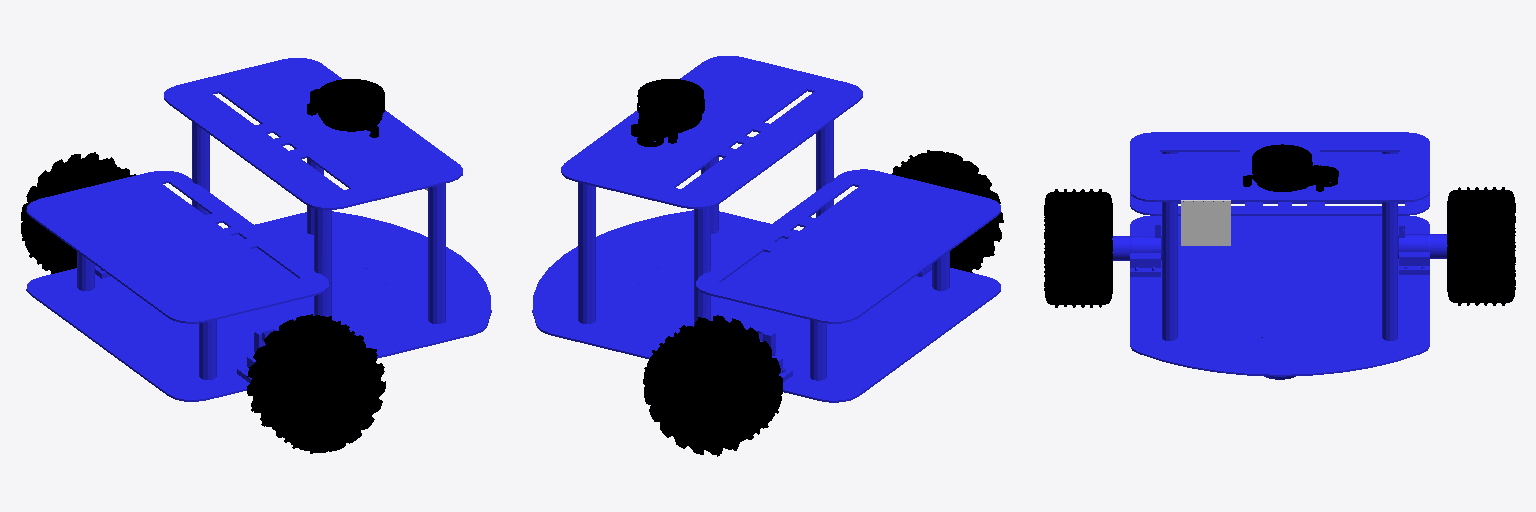
URDF robot description (project_pkg):
<?xml version="1.0" encoding="utf-8"?>
<!-- This URDF was automatically created by SolidWorks to URDF Exporter! Originally created by [author] ([email redacted]) 
     Commit Version: 1.6.0-4-g7f85cfe  Build Version: 1.6.7995.38578
     For more information, please see http://wiki.ros.org/sw_urdf_exporter -->

<robot
  name="project_pkg">



  <link
    name="base_link">
    <visual>
      <origin
        xyz="0 0 0"
        rpy="0 0 0" />
      <geometry>
        <mesh
          filename="package://project_pkg/meshes/base_link.STL" />
      </geometry>
      <material
        name="blue">
        <color
          rgba="0.2 0.2 1 1" />
      </material>
    </visual>
    <collision>
      <origin
        xyz="0 0 0"
        rpy="0 0 0" />
      <geometry>
        <mesh
          filename="package://project_pkg/meshes/base_link.STL" />
      </geometry>
    </collision>
  </link>





  <link
    name="left_wheel">

    <visual>
      <origin
        xyz="0 0 0"
        rpy="0 0 0" />
      <geometry>
        <mesh
          filename="package://project_pkg/meshes/left_wheel.STL" />
      </geometry>
      <material
        name="black">
        <color
          rgba="0 0 0 1" />
      </material>
    </visual>
    <collision>
      <origin
        xyz="0 0 0"
        rpy="0 0 0" />
      <geometry>
        <mesh
          filename="package://project_pkg/meshes/left_wheel.STL" />
      </geometry>
    </collision>
  </link>


  <joint
    name="left_joint"
    type="continuous">
    <origin
      xyz="-0.073323 0.181 0.016931"
      rpy="-1.5708 0 0" />
    <parent
      link="base_link" />
    <child
      link="left_wheel" />
    <axis
      xyz="0 0 1" />
  </joint>





  <link
    name="right_wheel">
    <visual>
      <origin
        xyz="0 0 0"
        rpy="0 0 0" />
      <geometry>
        <mesh
          filename="package://project_pkg/meshes/right_wheel.STL" />
      </geometry>
      <material
        name="black">
        <color
          rgba="0 0 0 1" />
      </material>
    </visual>
    <collision>
      <origin
        xyz="0 0 0"
        rpy="0 0 0" />
      <geometry>
        <mesh
          filename="package://project_pkg/meshes/right_wheel.STL" />
      </geometry>
    </collision>
  </link>


  <joint
    name="right_joint"
    type="continuous">
    <origin
      xyz="-0.069199 -0.181 0.016931"
      rpy="1.5708 0 0" />
    <parent
      link="base_link" />
    <child
      link="right_wheel" />
    <axis
      xyz="0 0 -1" />
  </joint>






  <link
    name="caster_link">
    <visual>
      <origin
        xyz="0 0 0"
        rpy="0 0 0" />
      <geometry>
        <mesh
          filename="package://project_pkg/meshes/caster_link.STL" />
      </geometry>
      <material
        name="black">
        <color
          rgba="0 0 0 1" />
      </material>
    </visual>
    <collision>
      <origin
        xyz="0 0 0"
        rpy="0 0 0" />
      <geometry>
        <mesh
          filename="package://project_pkg/meshes/caster_link.STL" />
      </geometry>
    </collision>
  </link>


  <joint
    name="caster_joint"
    type="continuous">
    <origin
      xyz="0.10968 0 -0.021174"
      rpy="0 0 0" />
    <parent
      link="base_link" />
    <child
      link="caster_link" />
    <axis
      xyz="1 0 0" />
  </joint>



  <link
    name="laser_link">
    <visual>
      <origin
        xyz="0 0 0"
        rpy="0 0 0" />
      <geometry>
        <mesh
          filename="package://project_pkg/meshes/laser_link.STL" />
      </geometry>
      <material
        name="black">
        <color
          rgba="0 0 0 1" />
      </material>
    </visual>
    <collision>
      <origin
        xyz="0 0 0"
        rpy="0 0 0" />
      <geometry>
        <mesh
          filename="package://project_pkg/meshes/laser_link.STL" />
      </geometry>
    </collision>
  </link>




  <joint
    name="laser_joint"
    type="fixed">
    <origin
      xyz="0.084984 0.0030102 0.167"
      rpy="0 0 0" />
    <parent
      link="base_link" />
    <child
      link="laser_link" />
    <axis
      xyz="0 0 0" />
  </joint>







  <link
    name="camera_link">
    <visual>
      <origin
        xyz="0 0 0"
        rpy="0 0 0" />
      <geometry>
        <mesh
          filename="package://project_pkg/meshes/camera_link.STL" />
      </geometry>
      <material
        name="">
        <color
          rgba="0.89804 0.89804 0.89804 1" />
      </material>
    </visual>
    <collision>
      <origin
        xyz="0 0 0"
        rpy="0 0 0" />
      <geometry>
        <mesh
          filename="package://project_pkg/meshes/camera_link.STL" />
      </geometry>
    </collision>
  </link>



  <joint
    name="camera_joint"
    type="fixed">
    <origin
      xyz="0.12459 -0.073617 0.13495"
      rpy="0 0 0" />
    <parent
      link="base_link" />
    <child
      link="camera_link" />
    <axis
      xyz="0 0 0" />
  </joint>
  

</robot>

--- Render facts (derived) ---
The picture shows the robot from 3 angles, left to right: view 1: azimuth 30°, elevation 25°; view 2: azimuth 150°, elevation 25°; view 3: azimuth 270°, elevation 25°; orthographic projection.
Robot: project_pkg — 6 links, 5 joints (3 continuous, 2 fixed); root link base_link; default pose: all joints at 0.
Visible links, largest first — view 1: base_link, right_wheel, left_wheel, laser_link; view 2: base_link, left_wheel, right_wheel, laser_link; view 3: base_link, left_wheel, right_wheel, laser_link, camera_link.
Link boxes in pixels (<box>): base_link: <box>26,58,491,401</box>; right_wheel: <box>247,314,385,453</box>; left_wheel: <box>21,152,135,273</box>; laser_link: <box>307,79,384,137</box>; base_link: <box>532,56,1000,402</box>; left_wheel: <box>643,315,782,456</box>; right_wheel: <box>892,150,1003,272</box>; laser_link: <box>631,79,704,146</box>; base_link: <box>1112,132,1447,379</box>; left_wheel: <box>1447,187,1515,305</box>; right_wheel: <box>1044,189,1112,307</box>; laser_link: <box>1243,144,1338,191</box>; camera_link: <box>1181,200,1230,245</box>.
Bounding box of the posed robot: 0.3771 × 0.47 × 0.2321 m (x, y, z).
6 mesh visuals loaded from 6 distinct referenced files (6 binary STL).